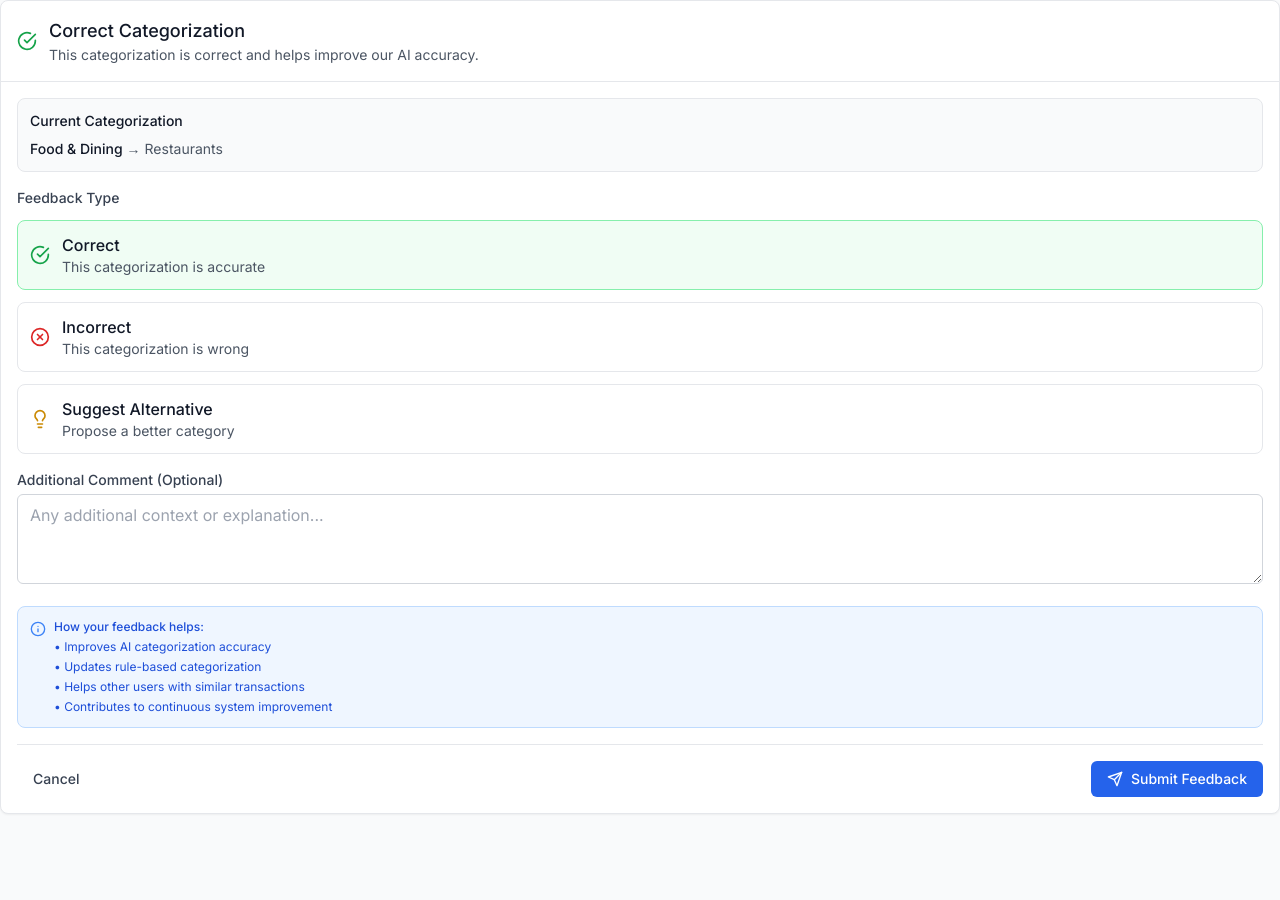
Test case: FeedbackForm › displays success message when feedback is submitted
Click the button "Correct This categorization is accurate". click: {"x": 91, "y": 245}
box: [17,220,1263,290]
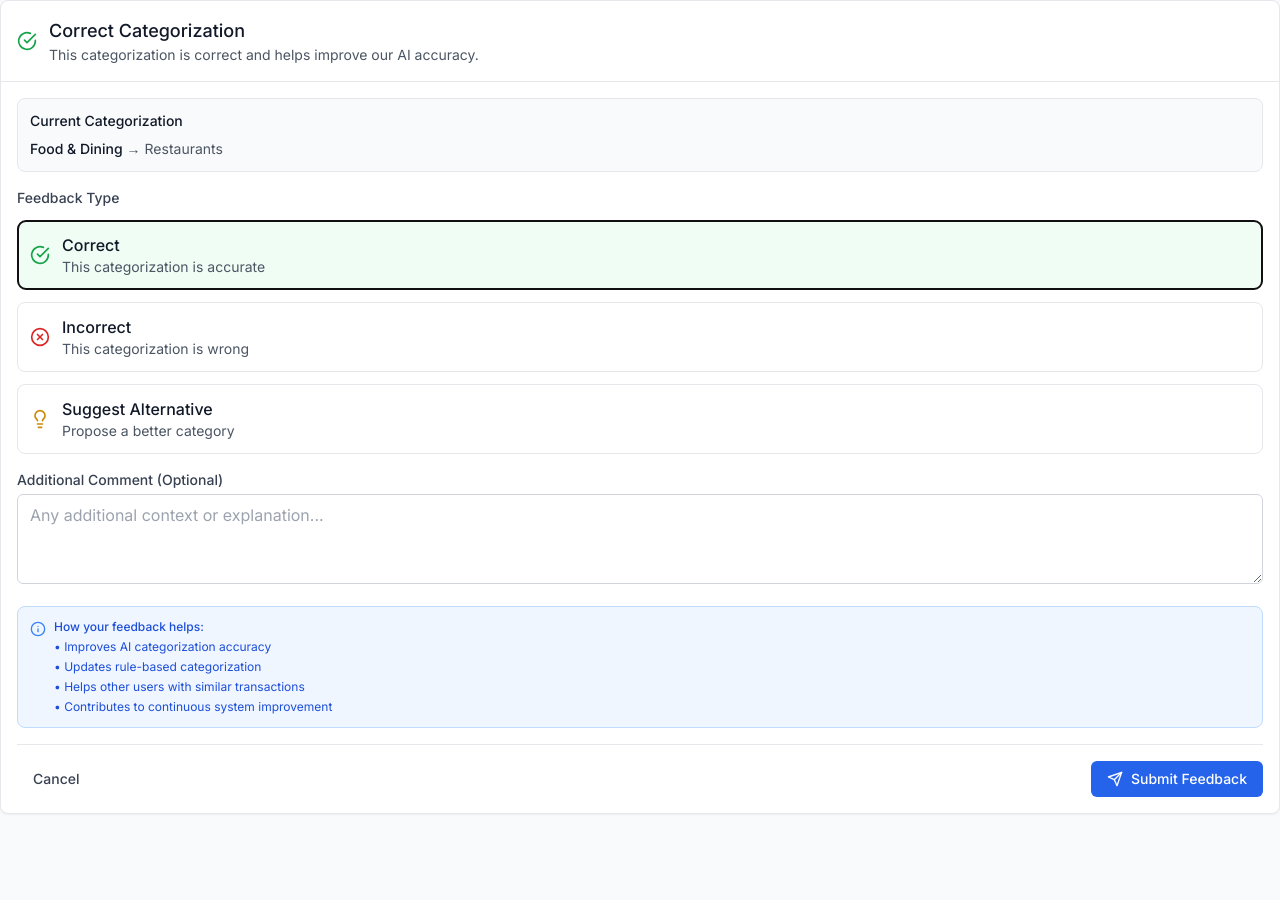
Click the button "Submit Feedback". click: {"x": 1177, "y": 779}
box: [1091,761,1263,797]
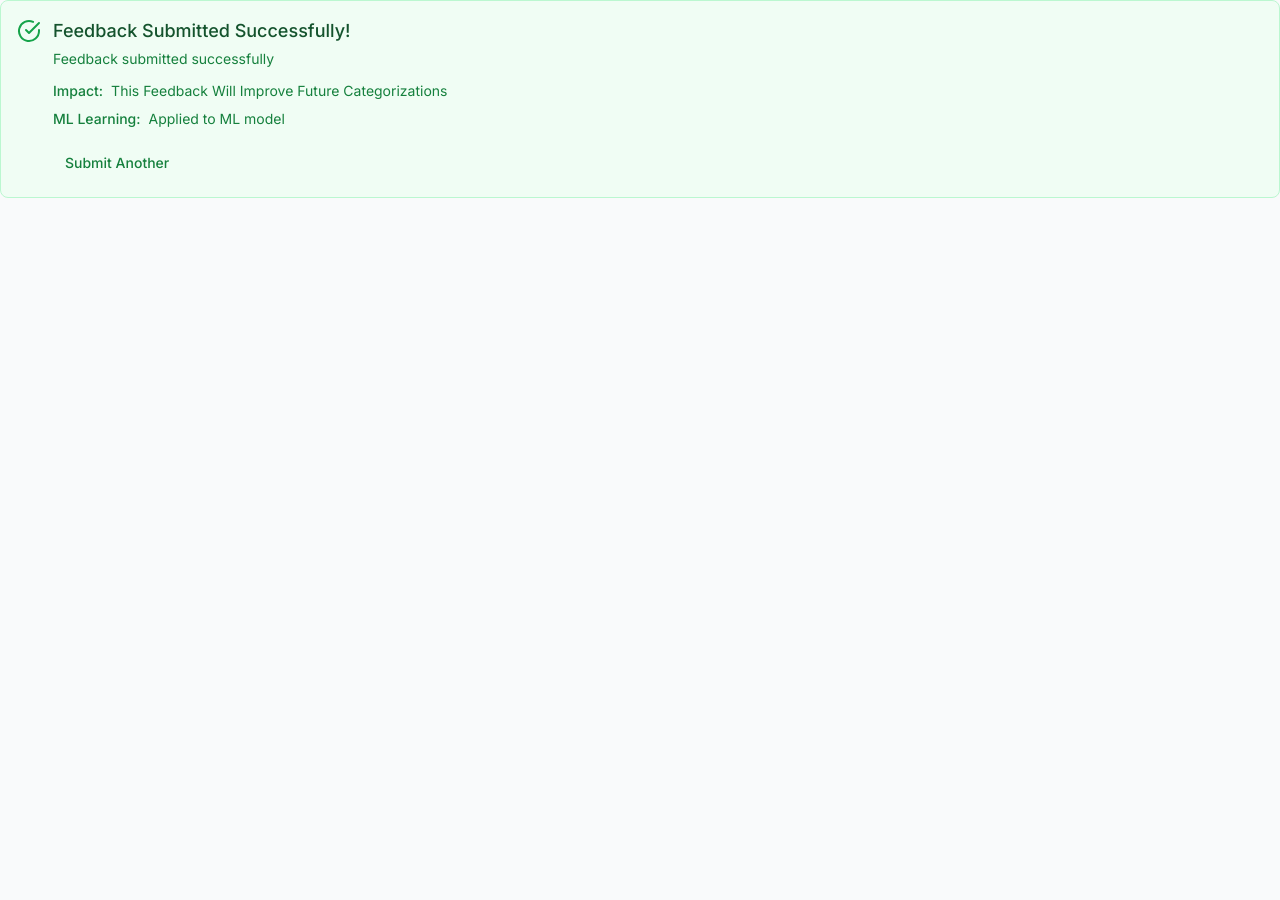
Check: the heading "Feedback Submitted Successfully!" is shown, box [53,20,350,41]
Check: the text "Feedback submitted successfully" is shown, box [53,50,274,67]
